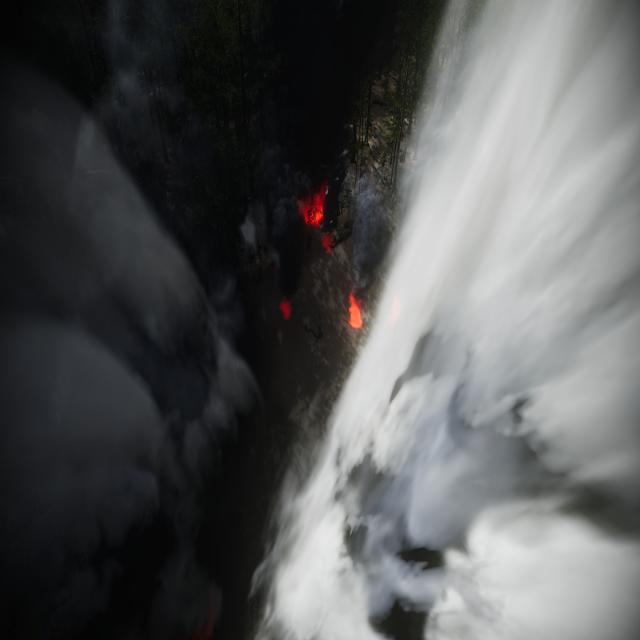Human: (303, 305, 331, 352)
